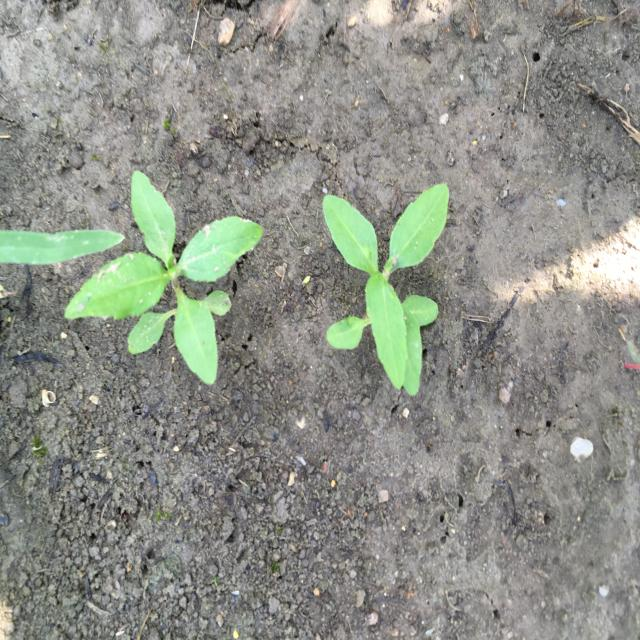Eclipta: (63, 169, 264, 387), (321, 182, 451, 398)
